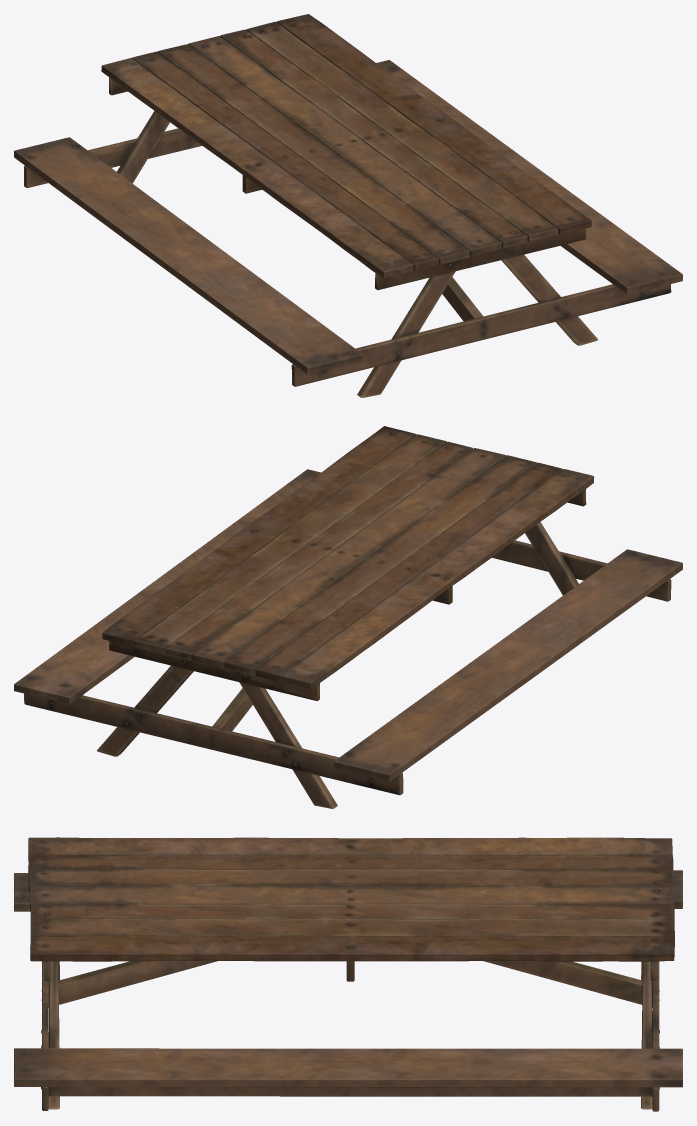
File: WoodenDiningTable_astral3d.optimize.glb
3 renders of one model, top to bottom at view 1: azimuth 30°, elevation 25°; view 2: azimuth 150°, elevation 25°; view 3: azimuth 270°, elevation 25°, orthographic. The views are drawn at different scales.
Visible parts, largest first — view 1: wooden_picnic_table; view 2: wooden_picnic_table; view 3: wooden_picnic_table.
Boxes of the visible parts, x1,y1,x2,y2 form: wooden_picnic_table: (14,14,682,397); wooden_picnic_table: (14,426,682,808); wooden_picnic_table: (14,837,682,1111).
Size of the model in its own units: 2.24 by 0.7459 by 3.02.
2 materials, 2 textured.
